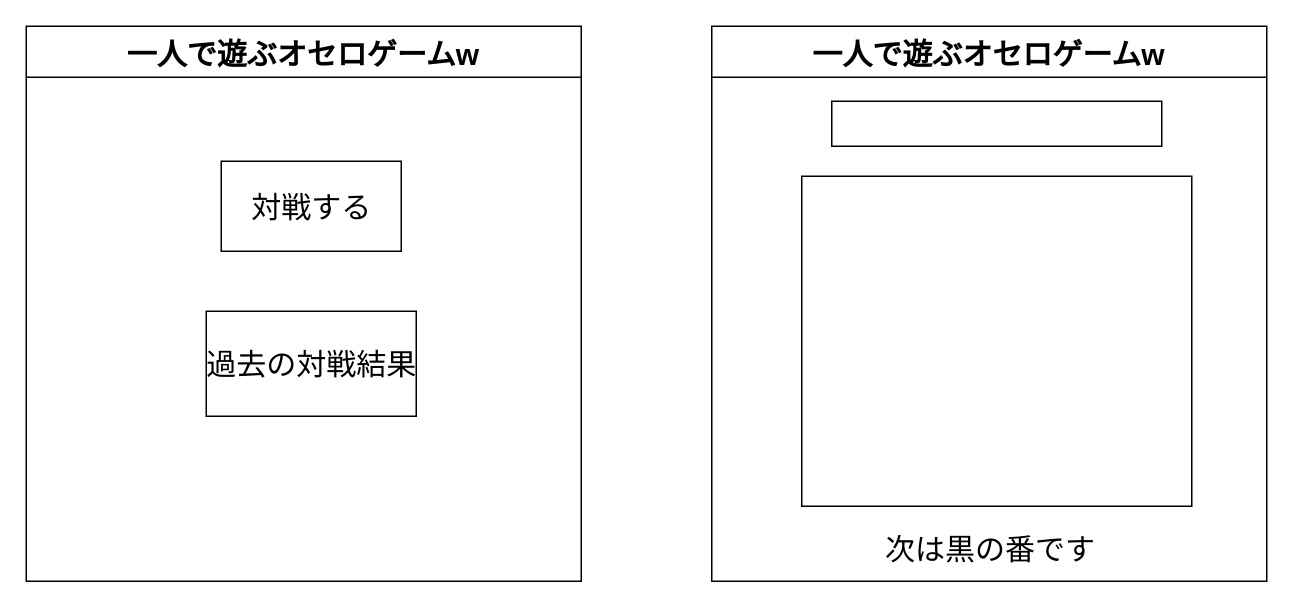
The diagram is 1293 pixels wide and 608 high, and some of its shapes have lost their labels. Here are the shapes that lost their labels. From the top down, the centre of each, then its label:
At [996,123]: "白の番はスキップです".
At [996,340]: "盤面".
